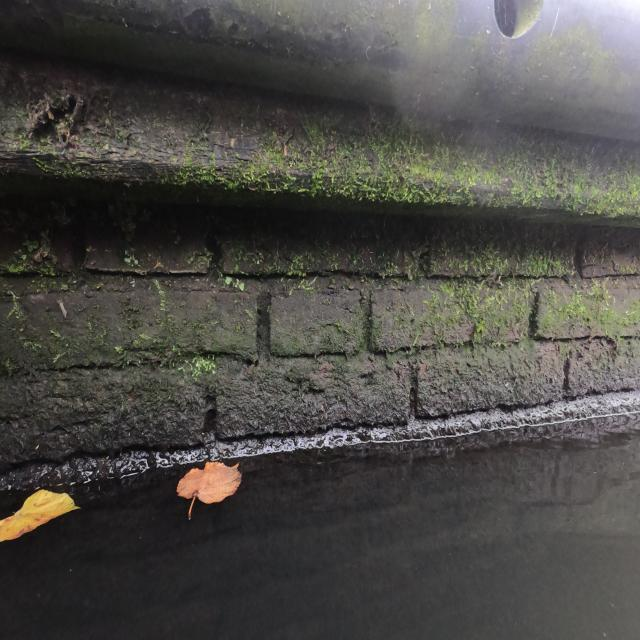water: (0, 426, 638, 634)
